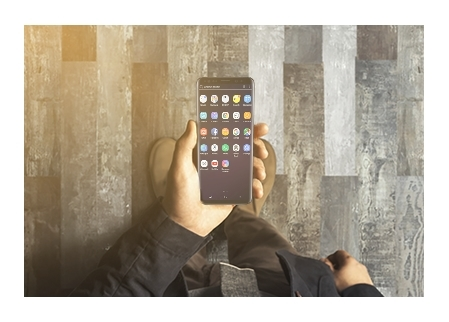Phone: (194, 74, 256, 206)
